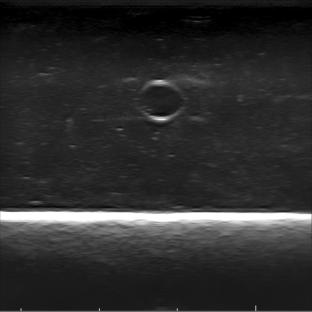vessel: (137, 78, 186, 122)
